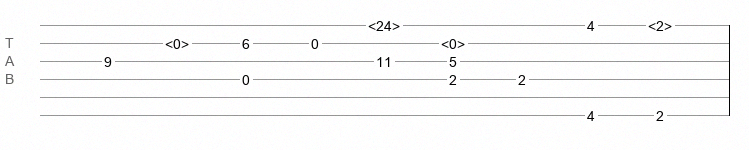0: (242, 72, 250, 82), (311, 36, 319, 46)
11: (376, 54, 392, 64)
2: (449, 72, 457, 82), (518, 72, 526, 82), (656, 108, 664, 118)
4: (587, 108, 595, 118), (587, 18, 595, 28)
5: (449, 54, 457, 64)
6: (242, 36, 250, 46)
9: (104, 54, 112, 64)
harmonic: (368, 18, 400, 28), (165, 36, 189, 46), (441, 36, 465, 46), (648, 18, 672, 28)
